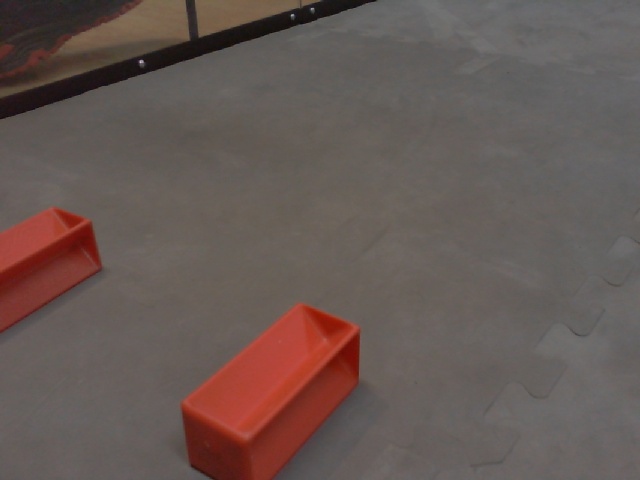RedSample: (180, 299, 362, 480), (1, 203, 103, 334)
